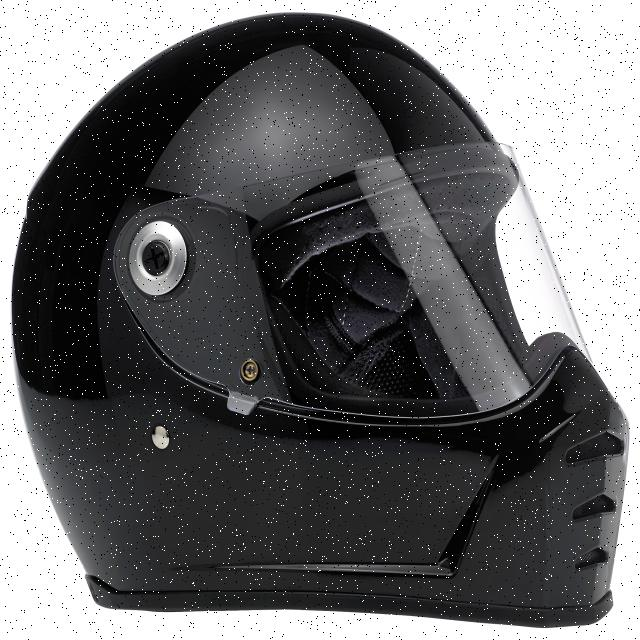Helmet: (12, 15, 629, 627)
